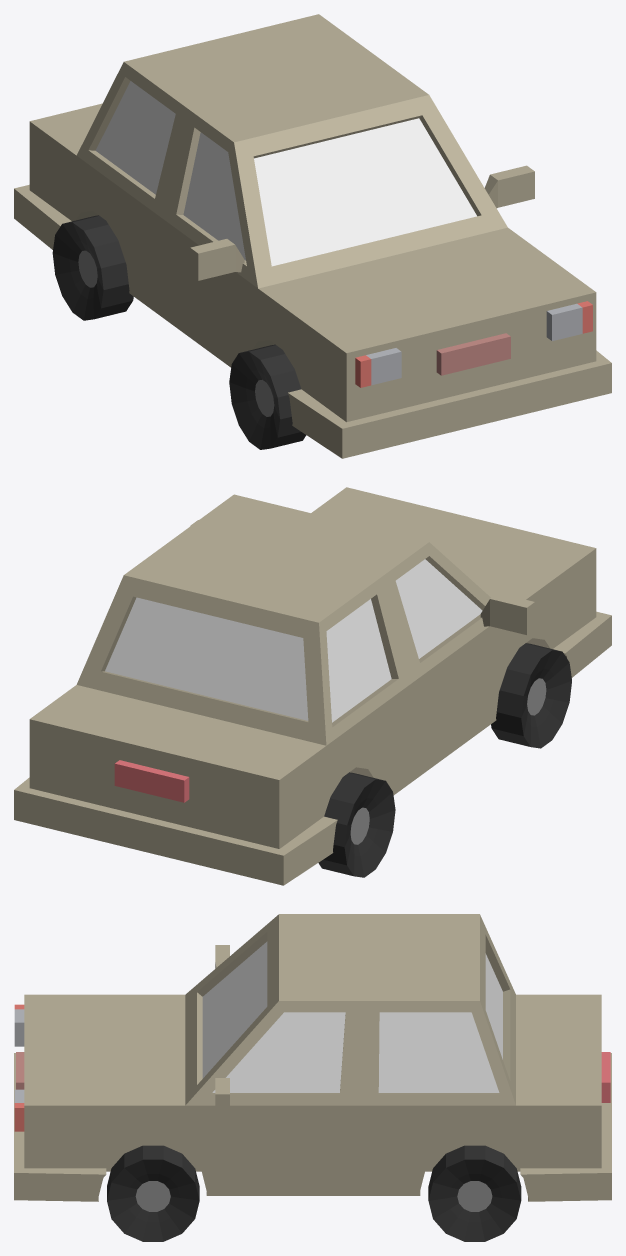
The model's file is Car_Cream.fbx.
3 views of the same model, one above another, from view 1: azimuth 30°, elevation 25°; view 2: azimuth 150°, elevation 25°; view 3: azimuth 270°, elevation 25° (orthographic). The views are drawn at different scales.
Visible parts, largest first — view 1: Cube; view 2: Cube; view 3: Cube.
Part boxes in pixels (box(x1,y1,x2,y2)): Cube: box(14, 14, 611, 458); Cube: box(14, 487, 611, 885); Cube: box(14, 914, 611, 1241).
Bounding box in the file's own units: 269 × 184 × 455.
